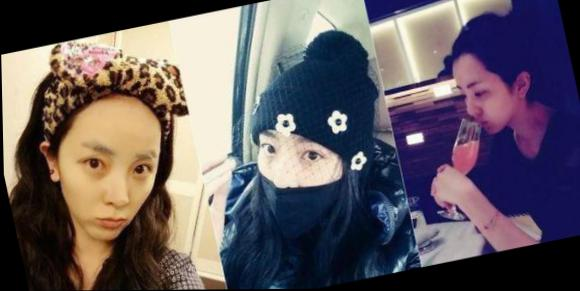NONE: (49, 124, 172, 247), (454, 67, 515, 140)
WRONG: (239, 114, 353, 228)
